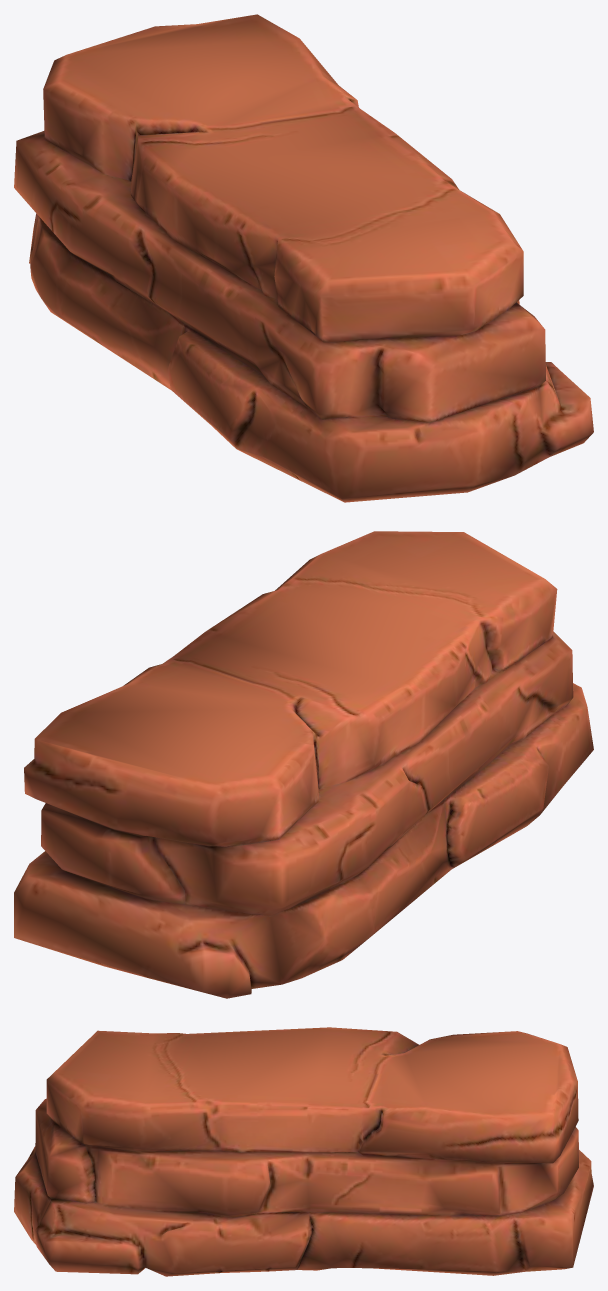
The model's file is gorge-cliff-4.glb.
The picture shows the model from 3 angles, top to bottom: view 1: azimuth 30°, elevation 25°; view 2: azimuth 150°, elevation 25°; view 3: azimuth 270°, elevation 25°; orthographic projection. The views are drawn at different scales.
Parts seen in each view (by area): view 1: GorgeCliff4; view 2: GorgeCliff4; view 3: GorgeCliff4.
Boxes of the visible parts, x1,y1,x2,y2 form: GorgeCliff4: [14, 14, 593, 502]; GorgeCliff4: [14, 531, 593, 998]; GorgeCliff4: [14, 1027, 593, 1276].
Bounding box in the file's own units: 2.09 × 1.33 × 4.5.
Materials: 1 (1 with a texture image).
